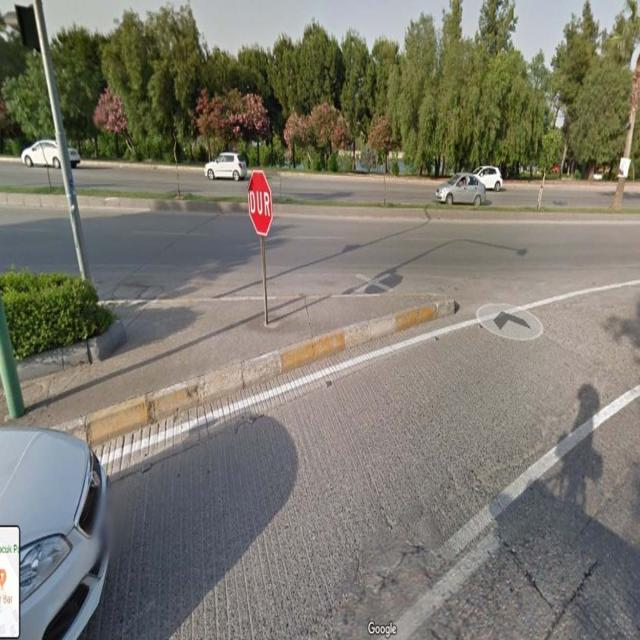dur: (248, 168, 272, 237)
